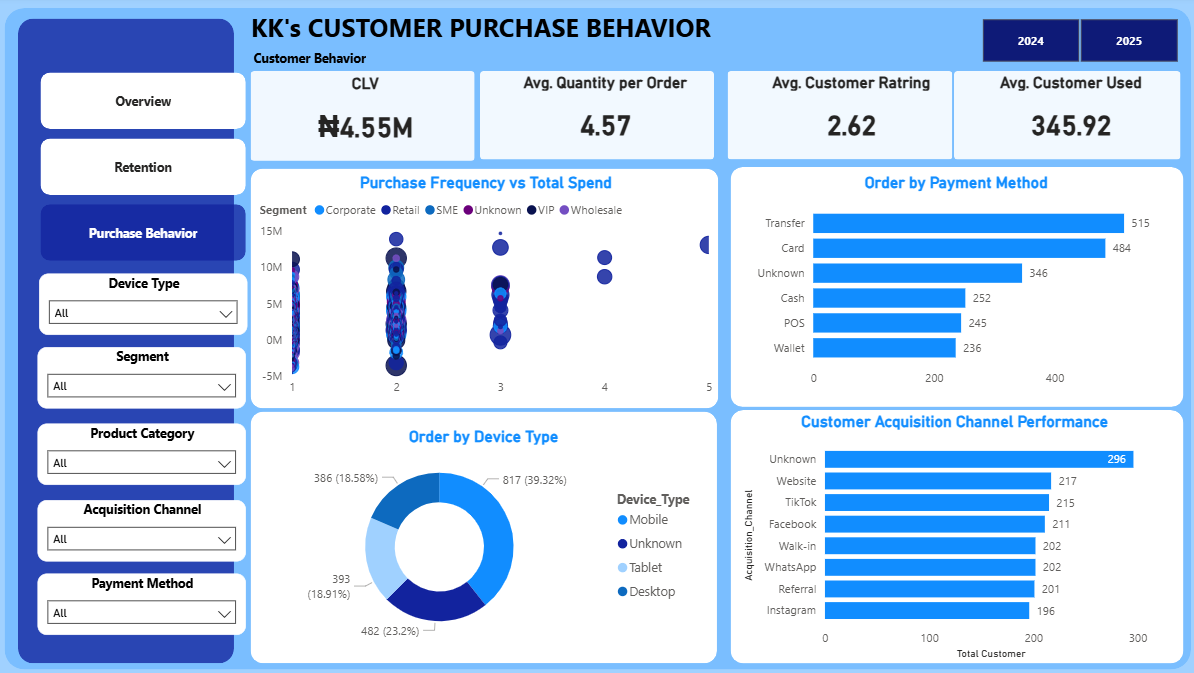

This screenshot's page, from the dashboard's own definition file:
{"tool":"powerbi","page":{"name":"Purchase Behavior","canvas":[1280,720],"ordinal":2},"visuals":[{"type":"shape","box":[11.2,12.7,1260,702.5],"z":0},{"type":"shape","box":[272.4,79.7,238.3,95.6],"z":0,"group":"g1"},{"type":"shape","box":[25.5,23.9,229.4,685],"z":1000},{"type":"shape","box":[516.1,79.5,248.5,94],"z":1000,"group":"g1"},{"type":"group","id":"g1","title":"Group 1","box":[272.4,79.2,987.6,96.1],"z":2000},{"type":"shape","box":[778.3,79.2,238.9,94],"z":3000,"group":"g1"},{"type":"shape","box":[272.4,183.2,497,254.9],"z":3000},{"type":"shape","box":[1019.5,79.5,240.5,94],"z":4000,"group":"g1"},{"type":"shape","box":[272.4,441.2,495.4,267.6],"z":4000},{"type":"shape","box":[782.1,439.6,481.1,269.2],"z":5000},{"type":"shape","box":[782.1,181.6,481.1,254.9],"z":6000},{"type":"shape","box":[238.9,46.2,192.7,38.2],"z":7000},{"type":"slicer","fields":{"Values":["Calender.Year"]},"box":[1024.2,17.5,256.5,58.9],"z":8000},{"type":"card","title":"CLV","fields":{"Values":["Calender.CLV"]},"box":[285.1,82.8,218.2,89.2],"z":9000},{"type":"card","title":"Avg. Quantity  per Order","fields":{"Values":["Calender.Avg Quantity per Order"]},"box":[540,81.2,218.2,89.2],"z":10000},{"type":"card","title":"Avg. Customer Ratring","fields":{"Values":["Calender.Avg Customer Rating"]},"box":[801.2,81.2,218.2,89.2],"z":11000},{"type":"card","title":"Avg. Customer Used","fields":{"Values":["Calender.Avg Discount"]},"box":[1027.4,81.2,232.6,89.2],"z":12000},{"type":"scatterChart","title":"Purchase Frequency vs Total Spend","fields":{"X":["Calender.Total Orders"],"Y":["Sum(Customer Transaction (2).Revenue NGN)"],"Category":["Customer Transaction (2).Customer_ID"],"Series":["Customer Transaction (2).Segment"],"Size":["Sum(Customer Transaction (2).Loyalty_Points)"]},"box":[277.2,188,490.6,245.3],"z":13000},{"type":"donutChart","title":"Order by Device Type","fields":{"Y":["Calender.Total Orders"],"Category":["Customer Transaction (2).Device_Type"]},"box":[278.8,457.2,482.7,235.8],"z":14000},{"type":"barChart","title":"Order by Payment Method","fields":{"Category":["Customer Transaction (2).Payment_Method"],"Y":["Calender.Total Orders"]},"box":[799.6,188,444.4,235.8],"z":15000},{"type":"barChart","title":"Customer Acquisition Channel Performance","fields":{"Category":["Customer Transaction (2).Acquisition_Channel"],"Y":["Calender.Total Customer"]},"box":[790.1,441.2,460.4,267.6],"z":16000},{"type":"pageNavigator","box":[49.4,81.2,218.2,200.7],"z":17000},{"type":"slicer","title":"Device Type","fields":{"Values":["Customer Transaction (2).Device_Type"]},"box":[47.8,294.7,221.4,65.3],"z":18000},{"type":"slicer","title":"Segment","fields":{"Values":["Customer Transaction (2).Segment"]},"box":[46.2,372.7,221.4,65.3],"z":19000},{"type":"slicer","title":"Product Category","fields":{"Values":["Customer Transaction (2).Product_Category"]},"box":[46.2,454,221.4,65.3],"z":20000},{"type":"slicer","title":"Acquisition Channel","fields":{"Values":["Customer Transaction (2).Acquisition_Channel"]},"box":[46.2,535.2,221.4,65.3],"z":21000},{"type":"slicer","title":"Payment Method","fields":{"Values":["Customer Transaction (2).Payment_Method"]},"box":[46.2,613.3,221.4,65.3],"z":22000},{"type":"shape","box":[272.4,14.3,962.1,62.1],"z":23000}]}

Visuals, with their boxes in screenshot pixels (x1, y1, x2, y2), scaled from the page's 1280x720 canvas onto the 1194x673 screenshot:
shape: 10/12/1186/669
shape: 254/74/476/164
shape: 24/22/238/663
shape: 481/74/713/162
"Group 1" group: 254/74/1175/164
shape: 726/74/949/162
shape: 254/171/718/410
shape: 951/74/1175/162
shape: 254/412/716/663
shape: 730/411/1178/663
shape: 730/170/1178/408
shape: 223/43/403/79
slicer - Calender.Year: 955/16/1193/71
"CLV" card: 266/77/469/161
"Avg. Quantity  per Order" card: 504/76/707/159
"Avg. Customer Ratring" card: 747/76/951/159
"Avg. Customer Used" card: 958/76/1175/159
"Purchase Frequency vs Total Spend" scatterChart: 259/176/716/405
"Order by Device Type" donutChart: 260/427/710/648
"Order by Payment Method" barChart: 746/176/1160/396
"Customer Acquisition Channel Performance" barChart: 737/412/1166/663
pageNavigator: 46/76/250/263
"Device Type" slicer: 45/275/251/336
"Segment" slicer: 43/348/250/409
"Product Category" slicer: 43/424/250/485
"Acquisition Channel" slicer: 43/500/250/561
"Payment Method" slicer: 43/573/250/634
shape: 254/13/1152/71
